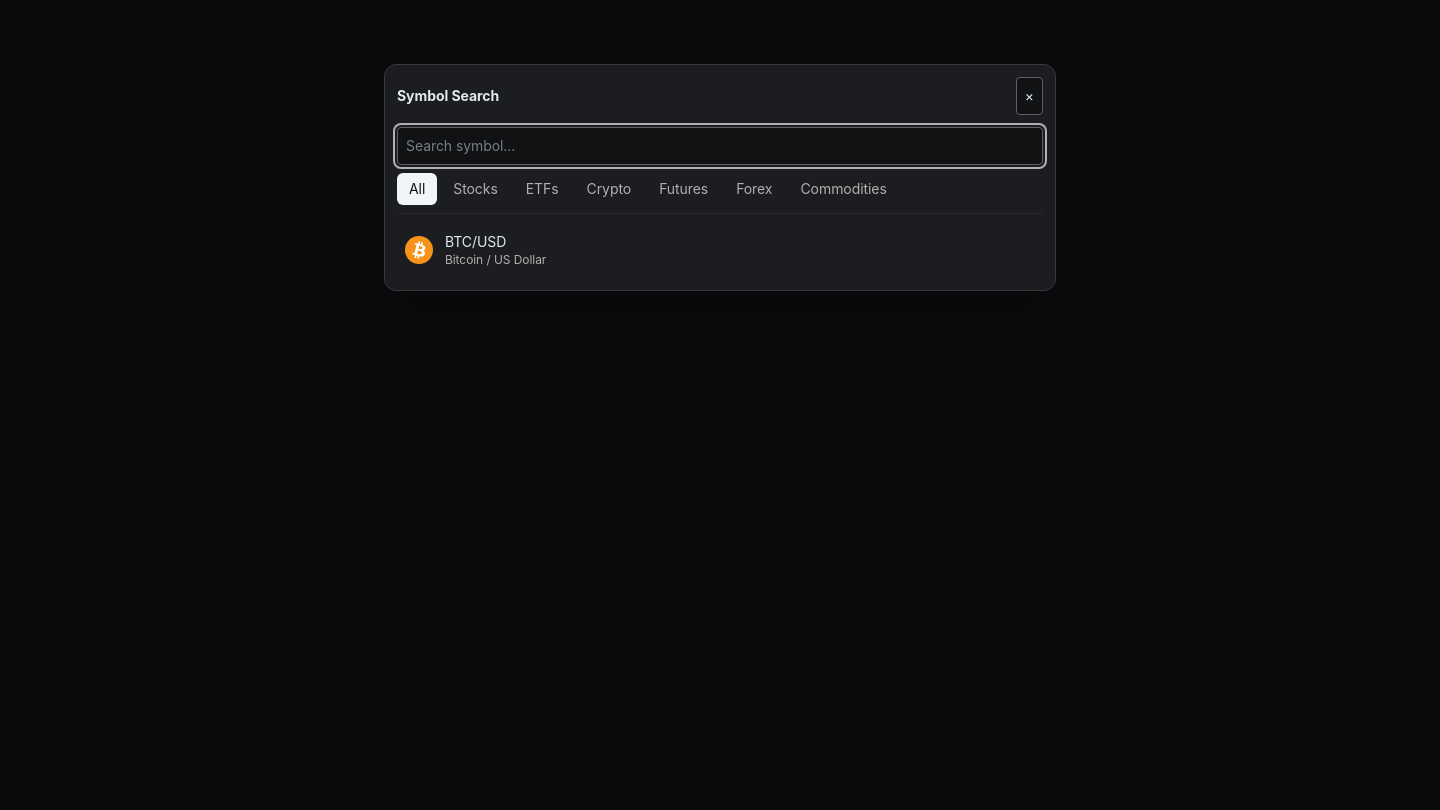
Test: keeps only approved-icon crypto even when a typed provider search returns noise
Check: the text "BTC/USD" is shown, box x1=445 y1=233 x2=506 y2=250
Type "OBSCURE" into the field named "Search symbols" at [720, 146], box x1=397 y1=127 x2=1043 y2=165
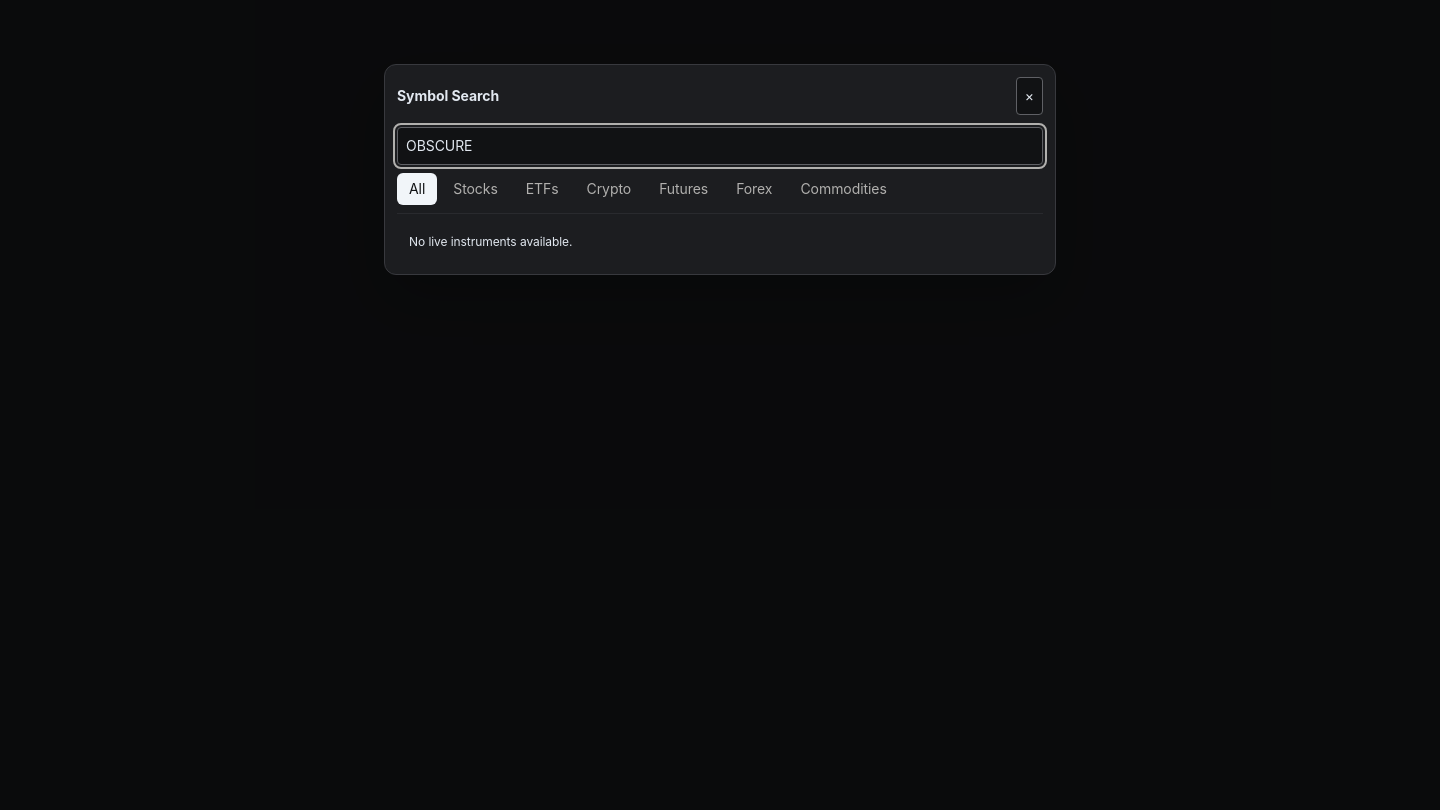
Check: the text "No live instruments available." is shown, box x1=409 y1=234 x2=572 y2=249
